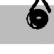not correct: (25, 0, 52, 31)
